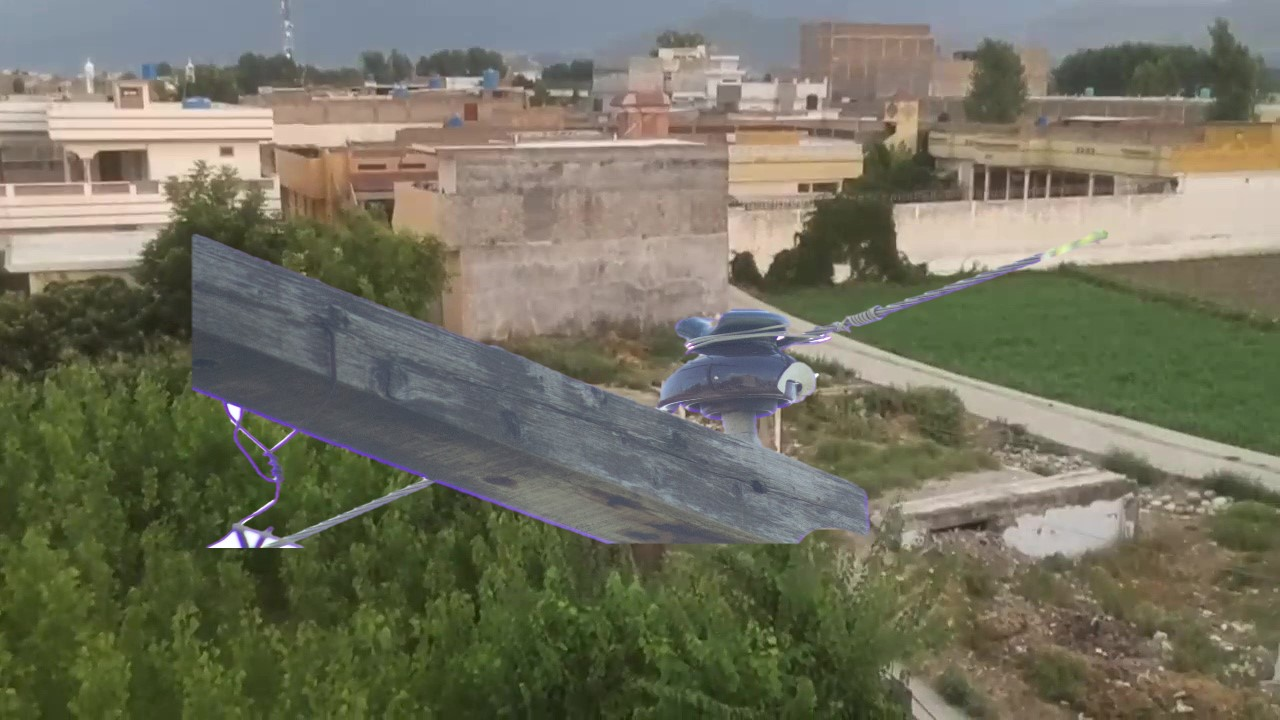defect_pin: (654, 304, 829, 434)
